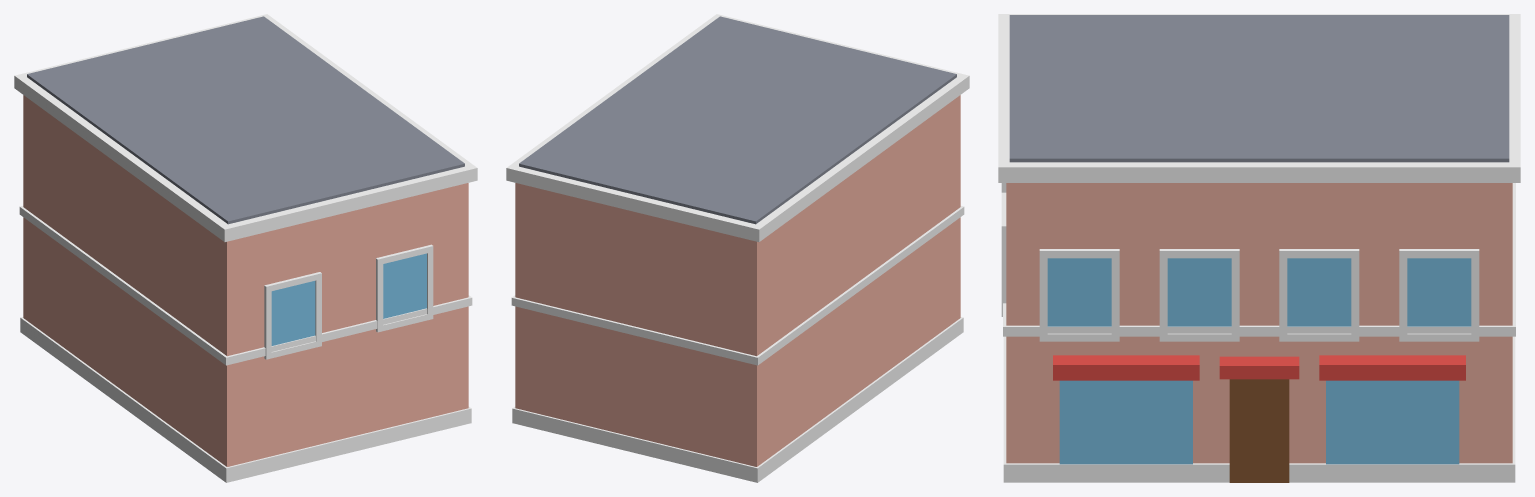
The model's file is prop_building1.glb.
The picture shows the model from 3 angles, left to right: view 1: azimuth 30°, elevation 25°; view 2: azimuth 150°, elevation 25°; view 3: azimuth 270°, elevation 25°; orthographic projection. The views are drawn at different scales.
Visible parts, largest first — view 1: main, roof, trim, glass, frames; view 2: main, roof, trim; view 3: main, roof, glass, trim, frames, awning, door.
Part boxes in pixels (x1,y1,x2,y2): main: (23,95,468,466); roof: (27,16,464,224); trim: (14,14,477,482); glass: (271,253,426,345); frames: (264,244,433,359); main: (515,95,960,466); roof: (519,16,956,224); trim: (506,14,969,482); main: (1006,183,1512,463); roof: (1009,15,1509,162); glass: (1047,258,1471,464); trim: (998,14,1520,482); frames: (1001,183,1479,341); awning: (1053,355,1465,380); door: (1229,379,1289,482).
Bounding box in the file's own units: 5.66 × 5.32 × 7.84.
